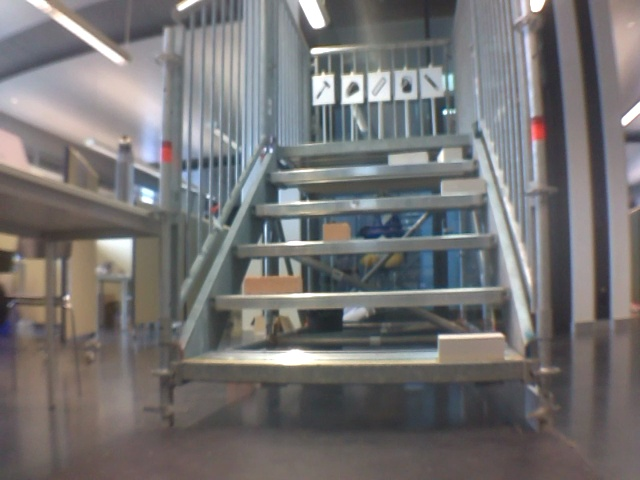brick: (438, 334, 504, 364), (245, 276, 301, 294), (441, 179, 485, 194), (322, 223, 351, 241), (389, 152, 428, 164), (439, 148, 460, 161)
bucket: (397, 74, 414, 94)
edge: (181, 359, 528, 384), (211, 288, 513, 308), (250, 192, 486, 215), (233, 235, 498, 254), (267, 160, 479, 180), (278, 135, 467, 154)
hammer: (314, 79, 332, 101)
pencil: (423, 71, 441, 93)
ruler: (370, 75, 389, 99)
stairs: (151, 2, 560, 432)
steps: (175, 132, 535, 386)
taco: (343, 79, 360, 97)
